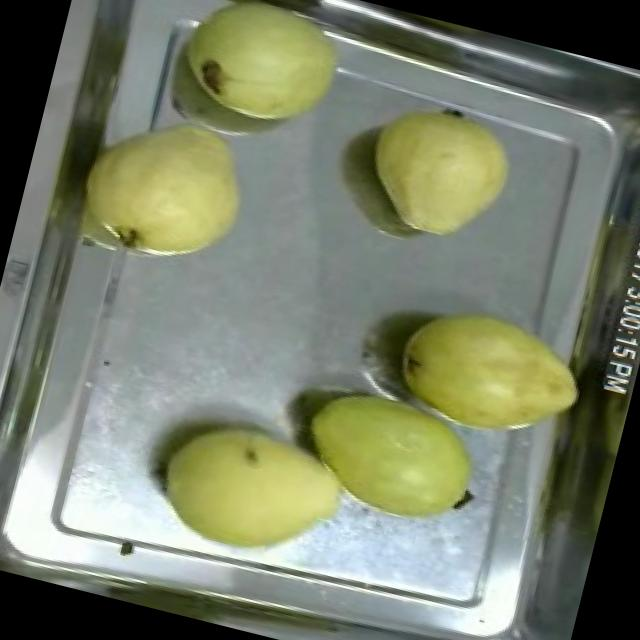Fruit: (140, 393, 368, 585), (60, 92, 271, 290), (283, 364, 499, 546), (378, 285, 598, 462), (342, 83, 531, 259), (158, 0, 367, 152)
